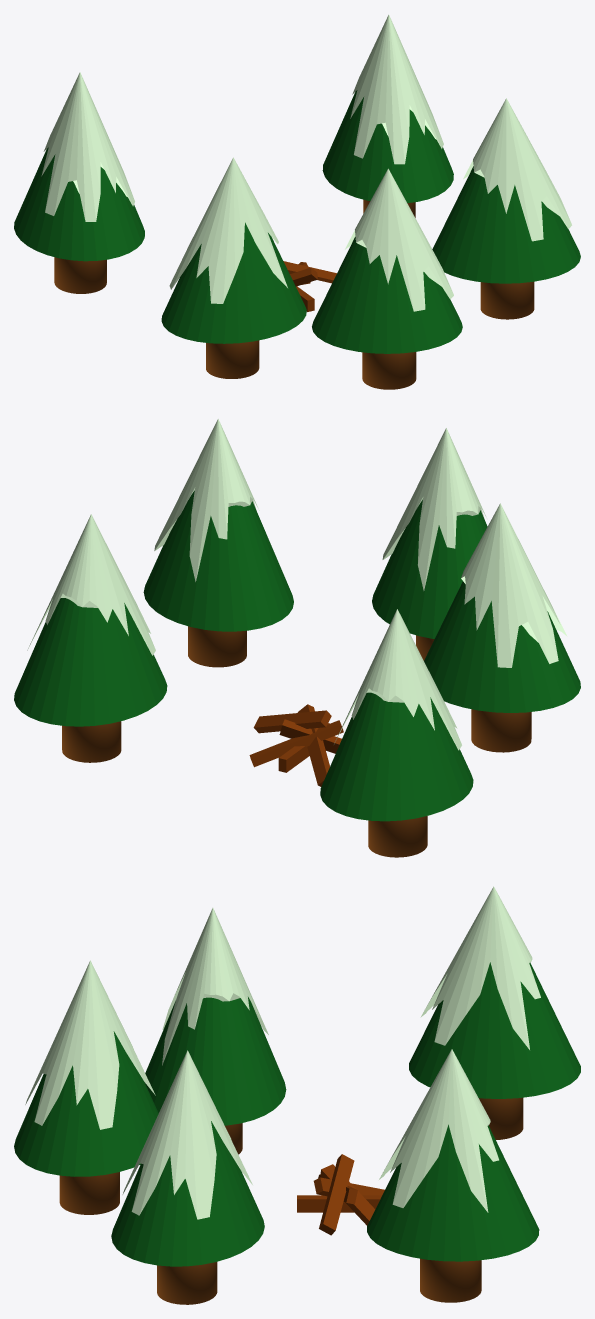
File: BasicTileFromGodot.glb
3 renders of one model, top to bottom at view 1: azimuth 30°, elevation 25°; view 2: azimuth 150°, elevation 25°; view 3: azimuth 270°, elevation 25°, orthographic. The views are drawn at different scales.
Parts seen in each view (by area): view 1: Cone.006, Cone.005, Cone.003, Cone.009, Cone.010, Cone.011, Cone.002, Cone.008, Cone.004, Cone.007, Cylinder.002, Cylinder.003 (+2 smaller); view 2: Cone.009, Cone.010, Cone.005, Cone.003, Cone.002, Cone.006, Cone.004, Cone.007, Cone.011, Cone.008, Cylinder.001, Cylinder.005 (+6 smaller); view 3: Cone.010, Cone.009, Cone.005, Cone.003, Cone.006, Cone.007, Cone.004, Cone.008, Cone.011, Cone.002, Cylinder.005, Cylinder.002 (+5 smaller).
Boxes of the visible parts, x1=… form: Cone.006: x1=312, y1=236, x2=462, y2=353; Cone.005: x1=432, y1=166, x2=580, y2=283; Cone.003: x1=161, y1=222, x2=306, y2=343; Cone.009: x1=14, y1=147, x2=144, y2=261; Cone.010: x1=322, y1=90, x2=453, y2=202; Cone.011: x1=350, y1=14, x2=443, y2=164; Cone.002: x1=169, y1=157, x2=287, y2=303; Cone.008: x1=41, y1=72, x2=134, y2=221; Cone.004: x1=463, y1=98, x2=571, y2=241; Cone.007: x1=345, y1=168, x2=453, y2=311; Cylinder.002: x1=480, y1=281, x2=534, y2=319; Cylinder.003: x1=362, y1=352, x2=416, y2=389; Cone.009: x1=320, y1=692, x2=473, y2=821; Cone.010: x1=14, y1=598, x2=167, y2=726; Cone.005: x1=143, y1=491, x2=293, y2=631; Cone.003: x1=424, y1=581, x2=580, y2=712; Cone.002: x1=461, y1=503, x2=567, y2=667; Cone.006: x1=372, y1=499, x2=487, y2=638; Cone.004: x1=154, y1=419, x2=259, y2=581; Cone.007: x1=382, y1=428, x2=486, y2=590; Cone.011: x1=27, y1=514, x2=155, y2=655; Cone.008: x1=334, y1=609, x2=461, y2=750; Cylinder.001: x1=471, y1=709, x2=531, y2=752; Cylinder.005: x1=62, y1=721, x2=121, y2=762; Cone.010: x1=367, y1=1124, x2=539, y2=1261; Cone.009: x1=409, y1=962, x2=580, y2=1098; Cone.005: x1=111, y1=1121, x2=264, y2=1266; Cone.003: x1=144, y1=997, x2=286, y2=1125; Cone.006: x1=14, y1=1031, x2=158, y2=1176; Cone.007: x1=25, y1=960, x2=155, y2=1129; Cone.004: x1=122, y1=1050, x2=252, y2=1219; Cone.008: x1=420, y1=886, x2=540, y2=1049; Cone.011: x1=379, y1=1049, x2=498, y2=1212; Cone.002: x1=162, y1=908, x2=268, y2=1065; Cylinder.005: x1=420, y1=1258, x2=481, y2=1302; Cylinder.002: x1=157, y1=1262, x2=217, y2=1304.
Bounding box in the file's own units: 8.27 × 4.31 × 8.63.
